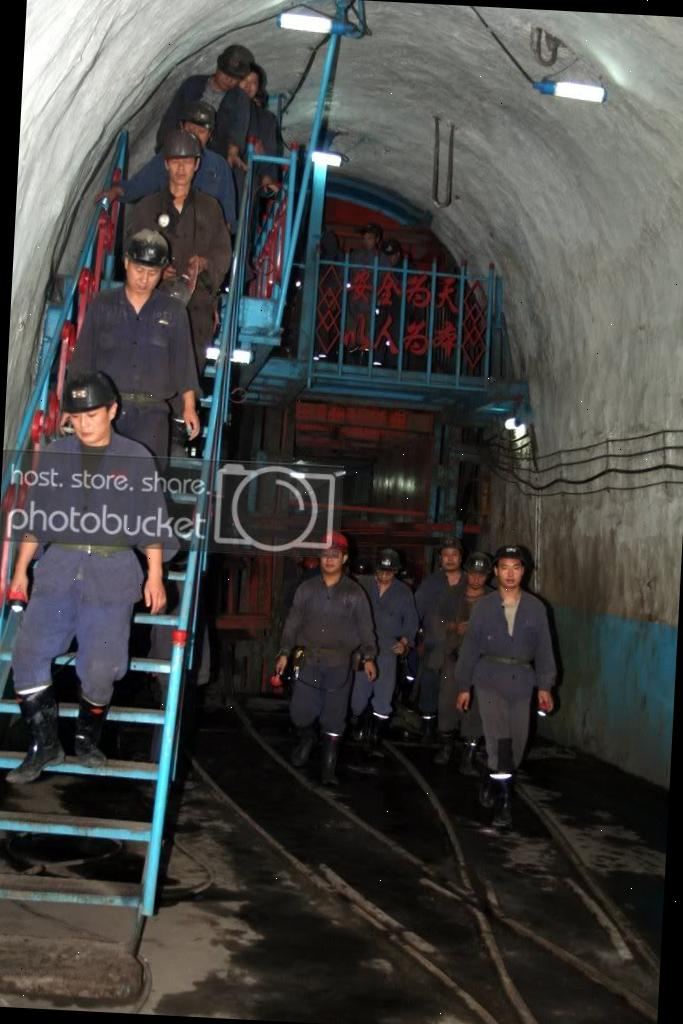helmet: (59, 372, 117, 416), (123, 226, 174, 268), (211, 46, 261, 86), (159, 127, 207, 165), (183, 97, 222, 129), (497, 540, 536, 568), (371, 544, 401, 578), (466, 548, 492, 578)
wear: (74, 288, 190, 426), (122, 194, 229, 305), (302, 578, 364, 676), (475, 599, 542, 689), (367, 580, 416, 656), (426, 573, 466, 635)
